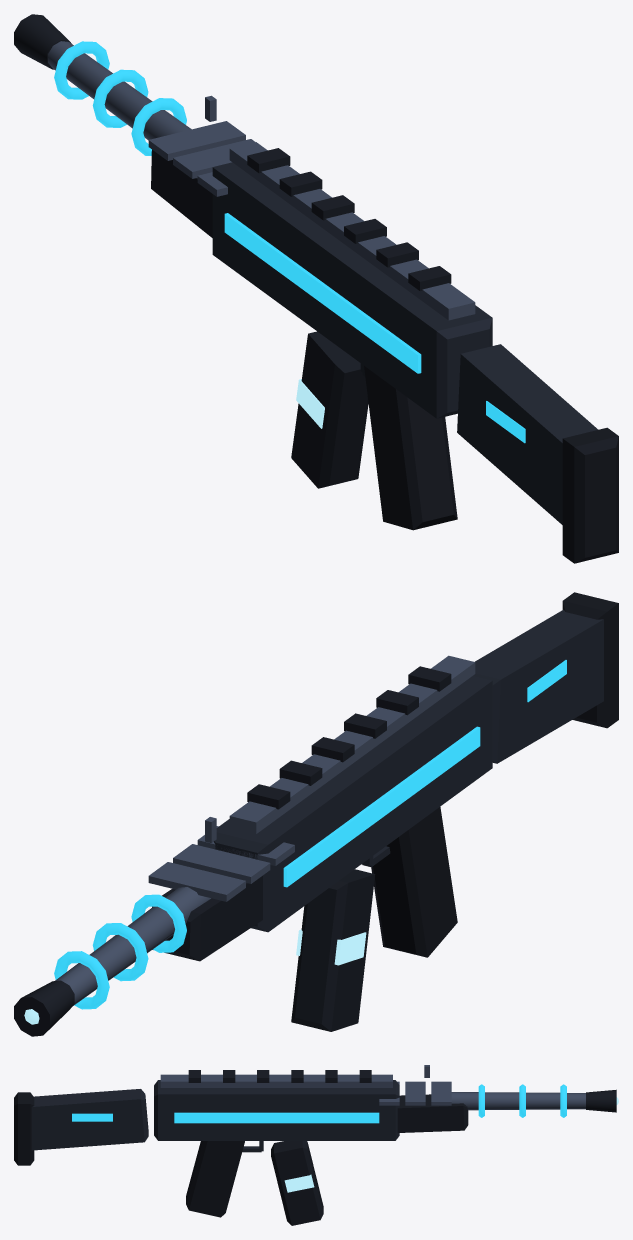
The model's file is weapon_pulsar_r7.glb.
The picture shows the model from 3 angles, top to bottom: view 1: azimuth 30°, elevation 25°; view 2: azimuth 150°, elevation 25°; view 3: azimuth 270°, elevation 25°; orthographic projection. The views are drawn at different scales.
Parts seen in each view (by area): view 1: weapon_pulsar_r7; view 2: weapon_pulsar_r7; view 3: weapon_pulsar_r7.
Boxes of the visible parts, x1,y1,x2,y2 form: weapon_pulsar_r7: (14, 14, 618, 563); weapon_pulsar_r7: (14, 592, 618, 1036); weapon_pulsar_r7: (14, 1065, 618, 1225).
Size of the model in its own units: 0.07 by 0.2502 by 0.886.
